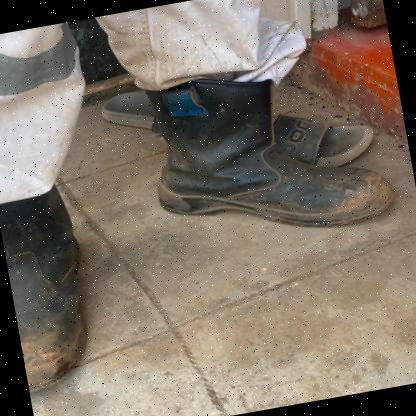bota: (135, 44, 407, 256), (0, 182, 119, 392)
